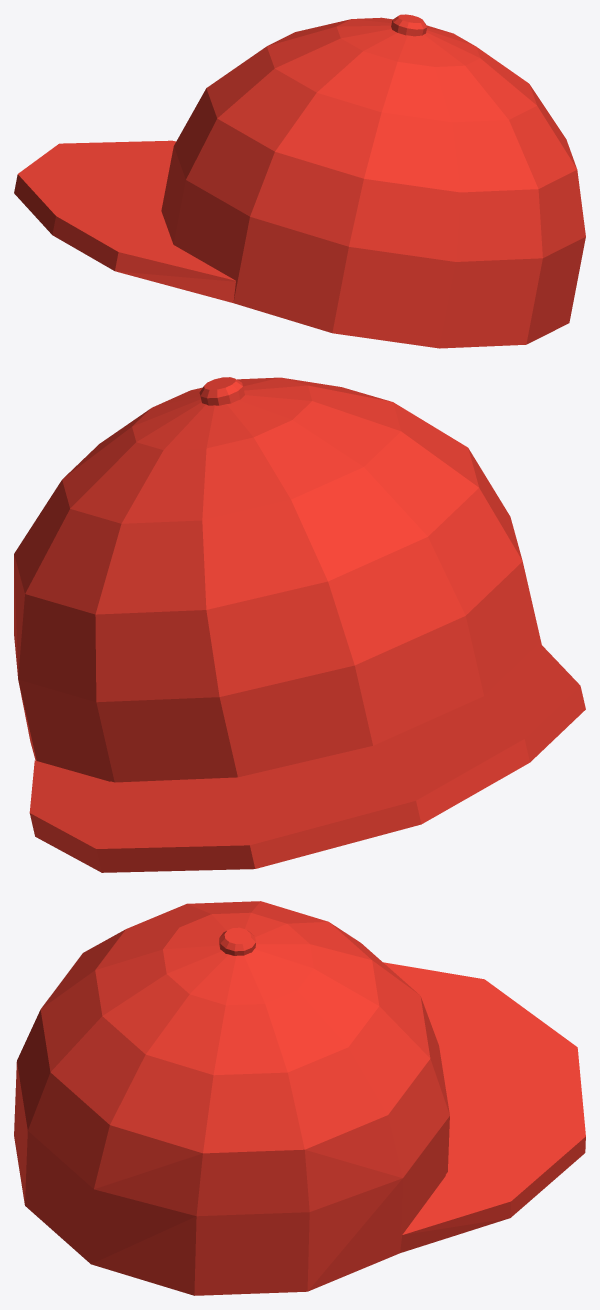
Rendered from cap.glb.
3 views of the same model, one above another, from view 1: azimuth 30°, elevation 25°; view 2: azimuth 150°, elevation 25°; view 3: azimuth 270°, elevation 25° (orthographic). The views are drawn at different scales.
Parts seen in each view (by area): view 1: Node; view 2: Node; view 3: Node.
Part boxes in pixels (<box>): Node: <box>14,14,585,348</box>; Node: <box>14,377,585,872</box>; Node: <box>14,901,585,1295</box>.
Size of the model in its own units: 0.9963 by 0.6251 by 1.08.
